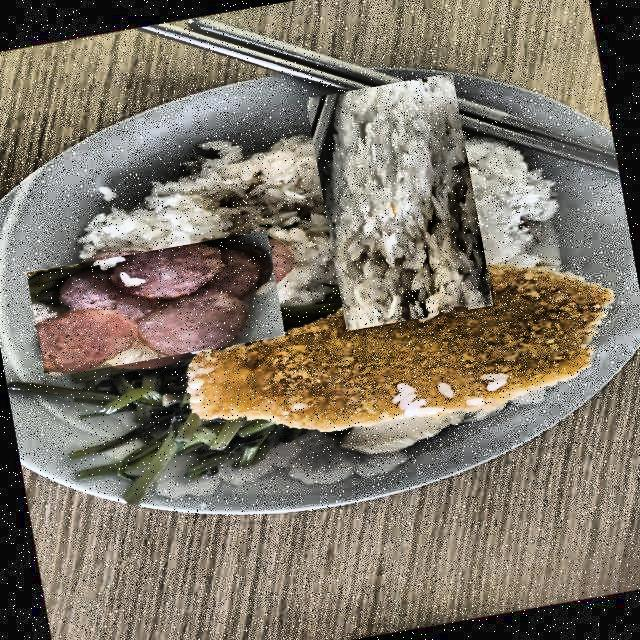Food: (286, 90, 510, 314), (26, 230, 286, 379), (85, 362, 222, 482)
